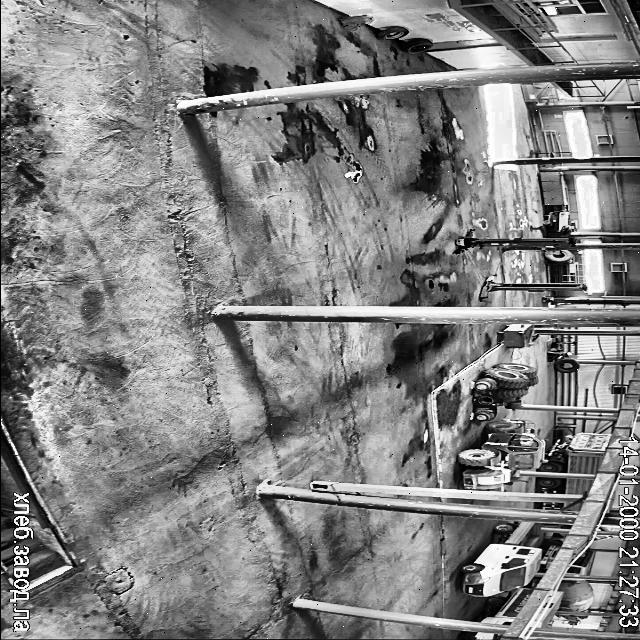class6: (458, 420, 544, 489), (474, 362, 538, 420)
class7: (460, 522, 540, 596), (540, 432, 612, 472), (483, 588, 532, 624), (558, 580, 594, 612), (538, 477, 591, 494), (538, 592, 560, 628), (567, 549, 595, 575), (540, 537, 563, 568), (468, 632, 500, 640), (543, 500, 564, 508), (564, 616, 583, 621), (565, 504, 580, 510)
truck: (454, 229, 574, 253), (479, 275, 588, 300)
